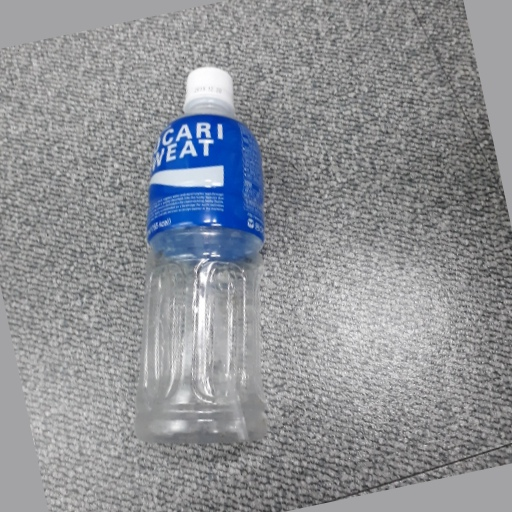Plastic_0: (141, 61, 267, 458)
